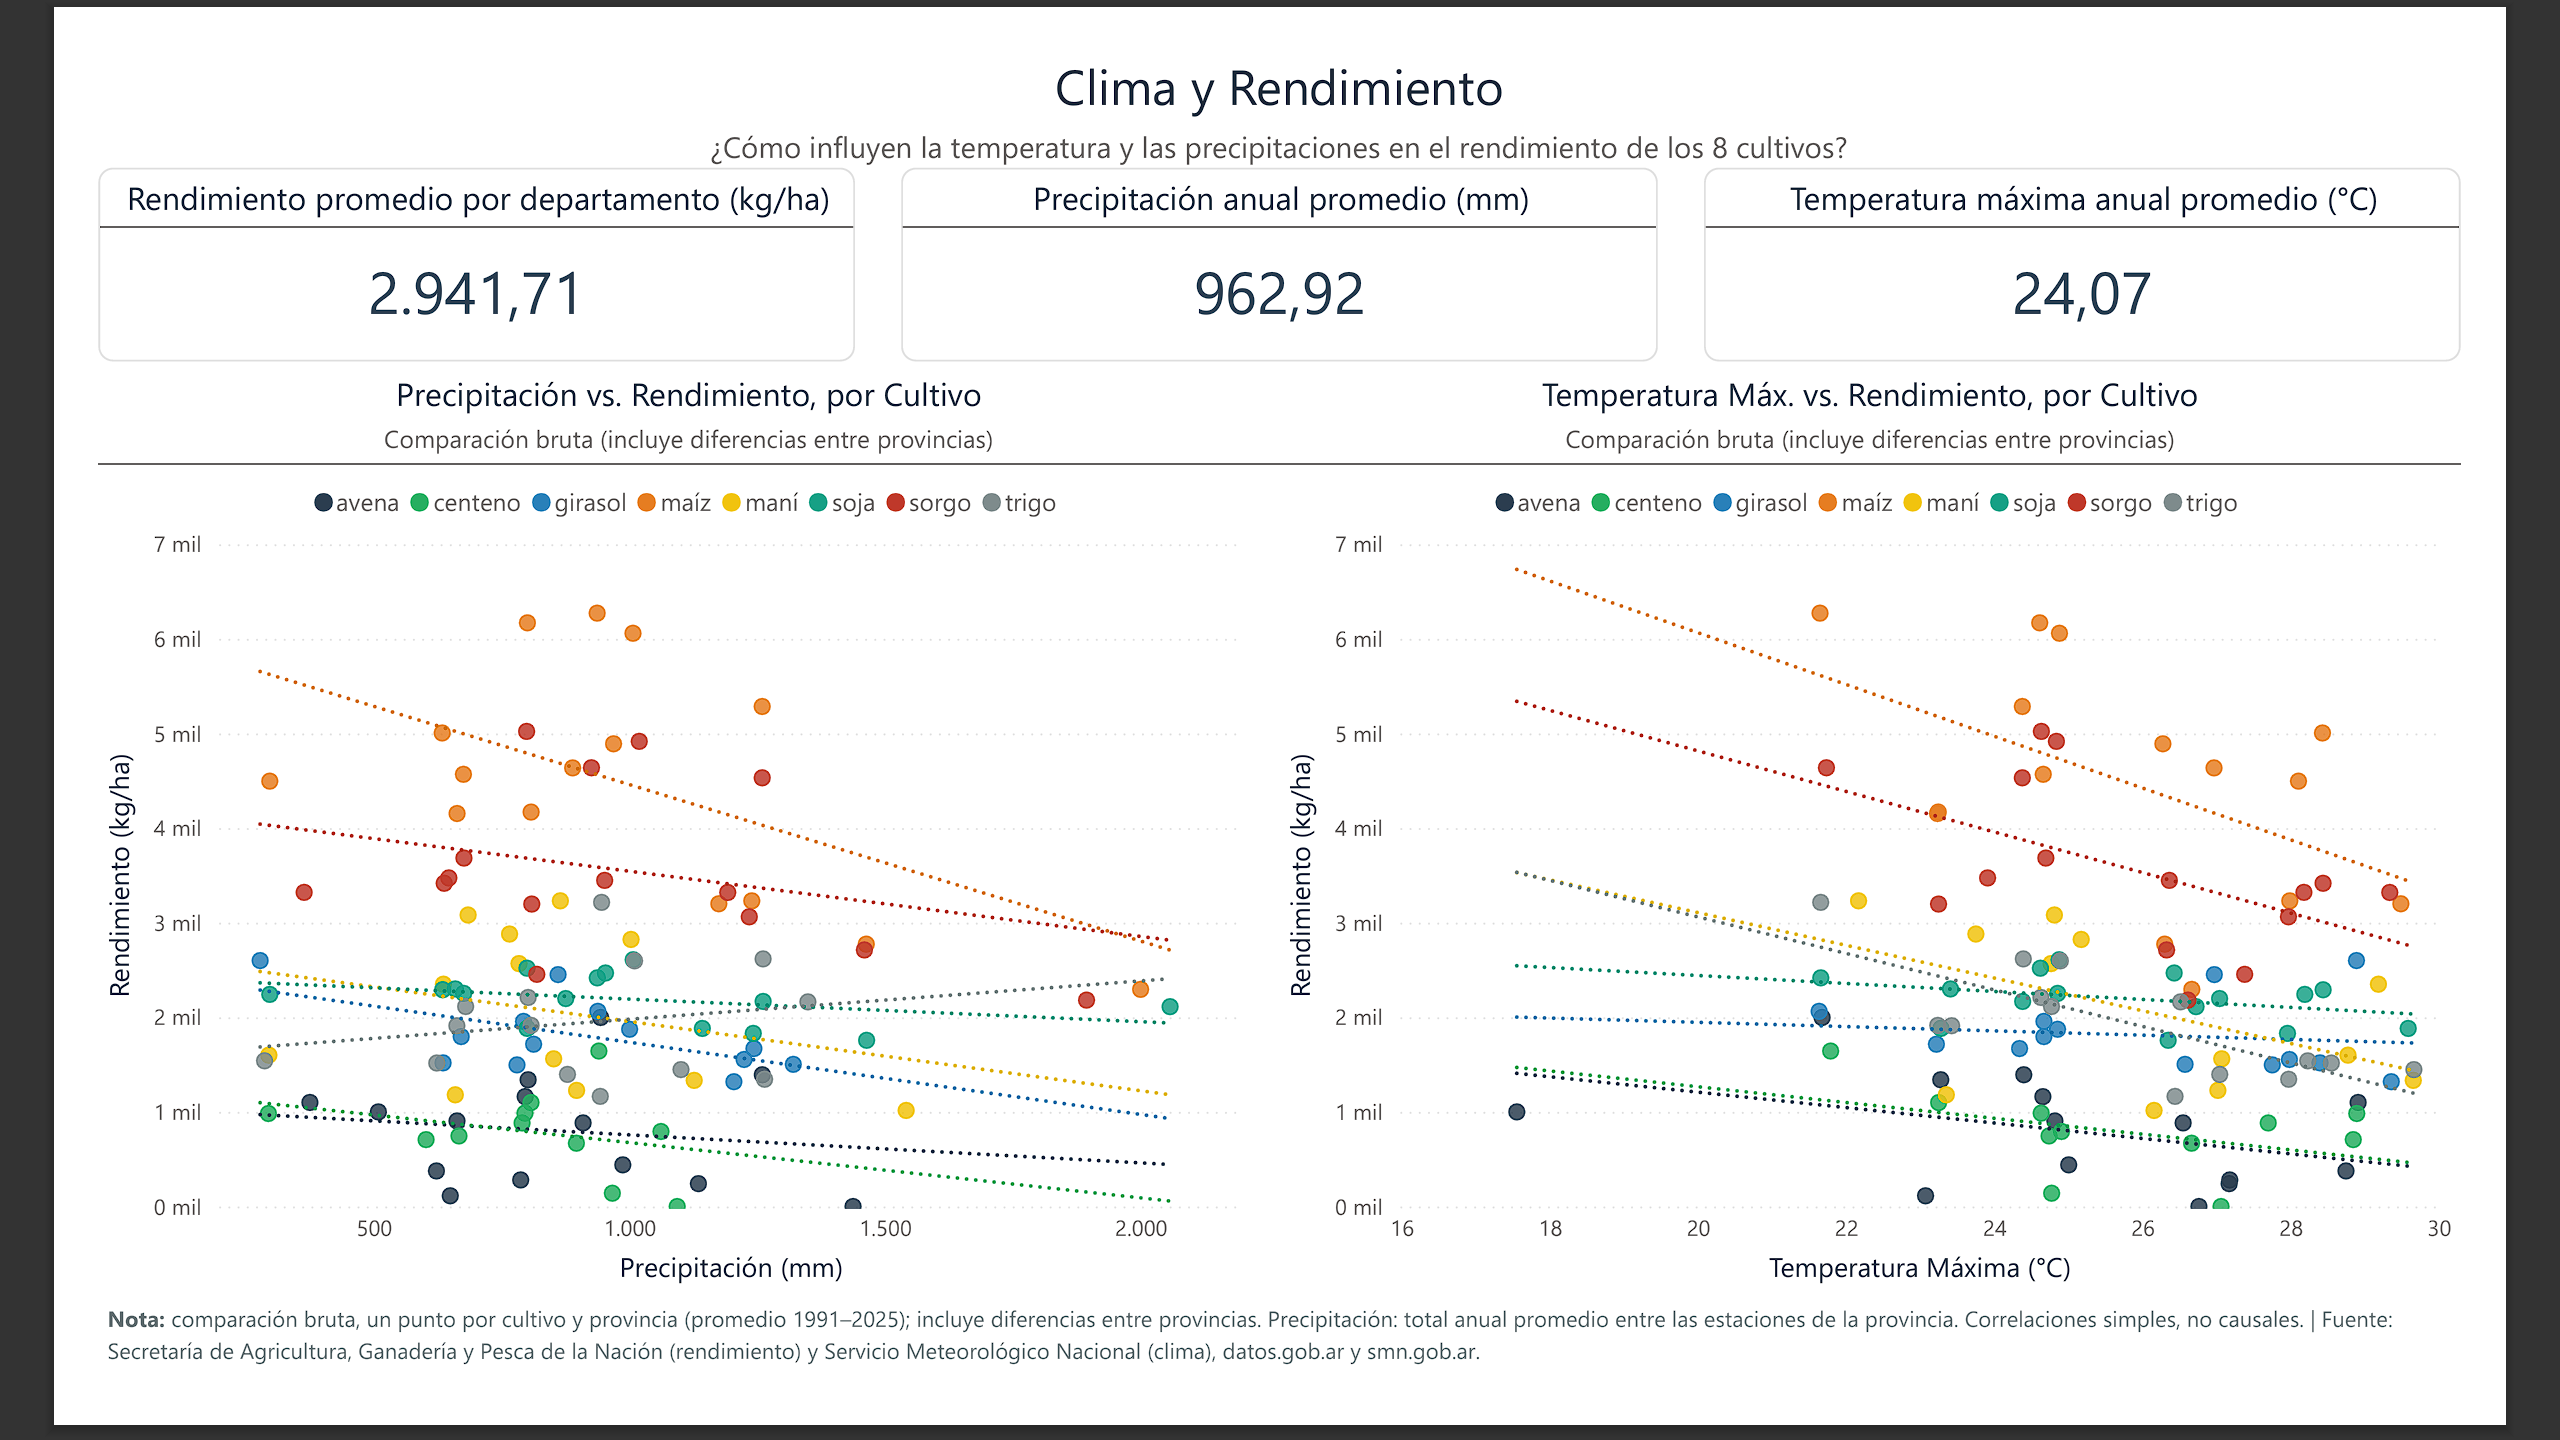

The dashboard page shown, as its layout file describes it:
{"tool":"powerbi","page":{"name":"Clima y Rendimiento","canvas":[1280,720],"ordinal":2},"visuals":[{"type":"textbox","title":"Clima y Rendimiento","box":[0,0,1280,64],"z":0},{"type":"card","title":"Rendimiento promedio por departamento (kg/ha)","fields":{"Values":["01-clima_rendimiento.Rendimiento Promedio Departamento"]},"box":[0,62.8,410.3,104.7],"z":1000},{"type":"card","title":"Precipitación anual promedio (mm)","fields":{"Values":["01-clima_rendimiento.Precipitacion Anual Promedio"]},"box":[434.5,62.8,410.3,104.7],"z":2000},{"type":"card","title":"Temperatura máxima anual promedio (°C)","fields":{"Values":["01-clima_rendimiento.Temperatura Maxima Promedio"]},"box":[869.7,62.8,410.3,104.7],"z":3000},{"type":"scatterChart","title":"Precipitación vs. Rendimiento, por Cultivo","fields":{"Y":["Avg(01-clima_rendimiento.rendimiento_kgxha)"],"X":["01-clima_rendimiento.PRECIP"],"Series":["Dim_Cultivo.cultivo"],"Category":["01-clima_rendimiento.provincia","01-clima_rendimiento.anio"]},"box":[0,172.8,640,499.3],"z":4000},{"type":"scatterChart","title":"Temperatura Máx. vs. Rendimiento, por Cultivo","fields":{"Y":["Avg(01-clima_rendimiento.rendimiento_kgxha)"],"X":["Avg(01-clima_rendimiento.TMAX)"],"Series":["Dim_Cultivo.cultivo"],"Category":["01-clima_rendimiento.provincia","01-clima_rendimiento.anio"]},"box":[640,172.8,640,499.3],"z":5000},{"type":"textbox","box":[0,672.1,1280,47.8],"z":5001}]}

Visuals, with their boxes in screenshot pixels (x1, y1, x2, y2), scaled from the page's 1280x720 canvas onto the 2560x1440 screenshot:
"Clima y Rendimiento" textbox: box(0, 0, 2559, 128)
"Rendimiento promedio por departamento (kg/ha)" card: box(0, 126, 821, 335)
"Precipitación anual promedio (mm)" card: box(869, 126, 1690, 335)
"Temperatura máxima anual promedio (°C)" card: box(1739, 126, 2559, 335)
"Precipitación vs. Rendimiento, por Cultivo" scatterChart: box(0, 346, 1280, 1344)
"Temperatura Máx. vs. Rendimiento, por Cultivo" scatterChart: box(1280, 346, 2559, 1344)
textbox: box(0, 1344, 2559, 1439)
